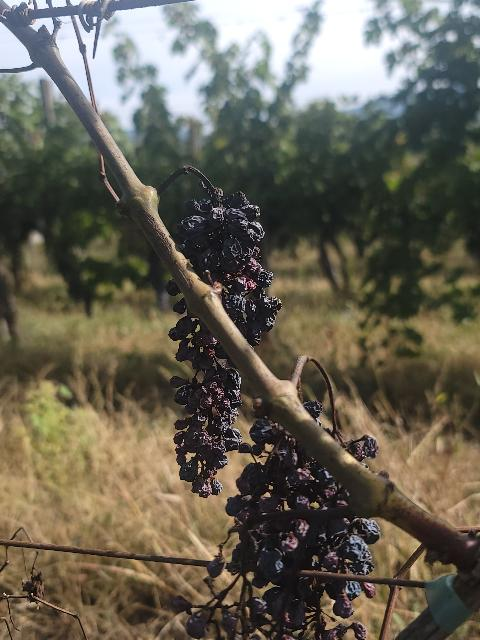grapes: (175, 419, 380, 640), (179, 181, 281, 345), (170, 299, 241, 498)
